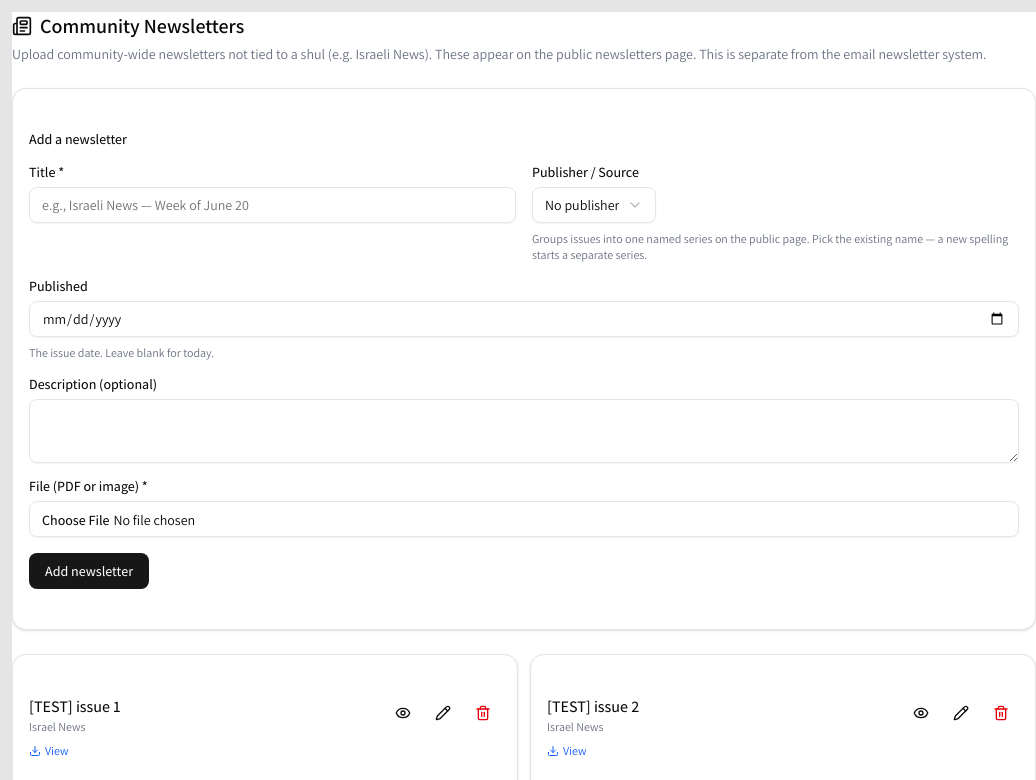
Test: admin community newsletters › offers each publisher already in use once, so a series is not split by a typo
Expected: the text "[TEST] issue 1" is shown, [29,695,120,719]
Click the dropdown named "Publisher / Source".
click(594, 205)  # box [532,187,656,223]
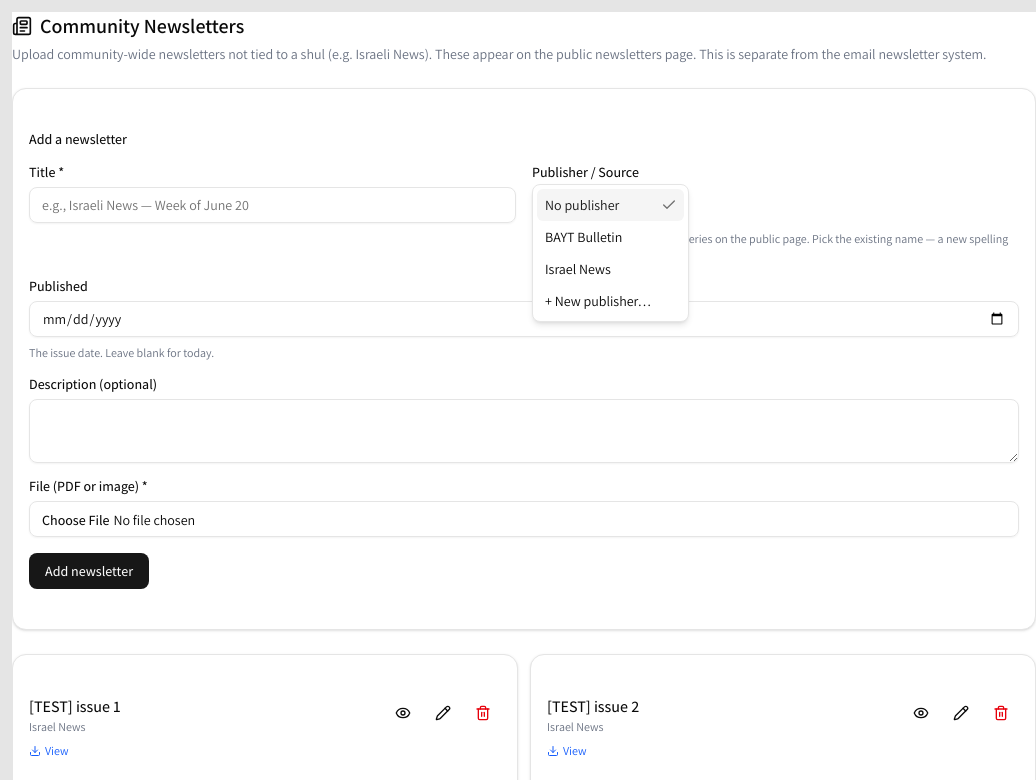
Expected: the option "BAYT Bulletin" is shown, [545,228,622,246]
Expected: the number of options "Israel News" is 1, [545,260,611,278]
